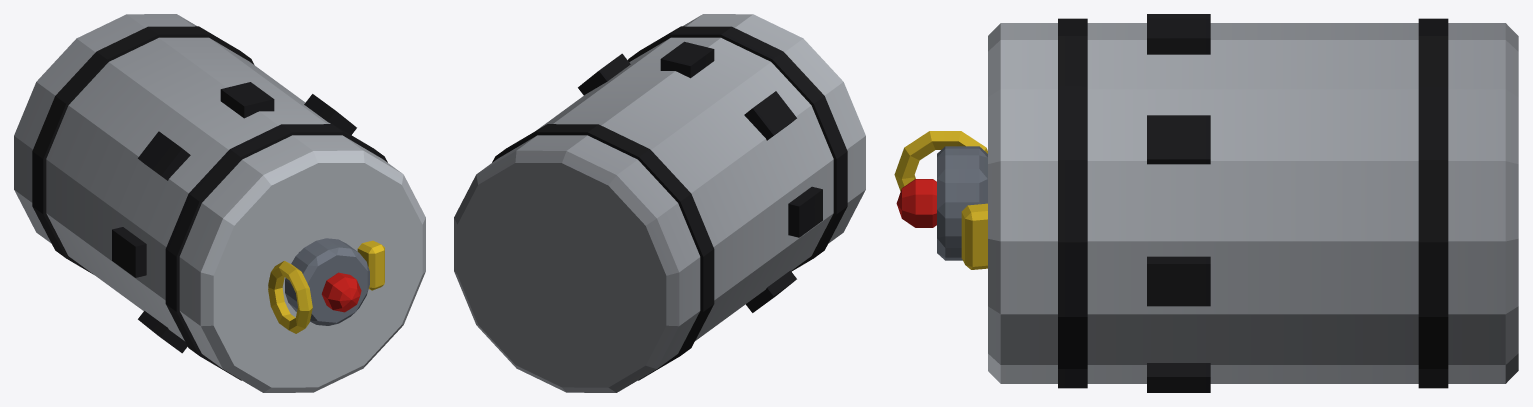
Rendered from smoke.glb.
3 renders of one model, left to right at view 1: azimuth 30°, elevation 25°; view 2: azimuth 150°, elevation 25°; view 3: azimuth 270°, elevation 25°, orthographic. The views are drawn at different scales.
Visible parts, largest first — view 1: smoke; view 2: smoke; view 3: smoke.
Boxes of the visible parts, box(x1,y1,x2,y2) form: smoke: box(14, 14, 425, 392); smoke: box(454, 14, 865, 392); smoke: box(894, 14, 1518, 392).
Bounding box in the file's own units: 0.182 × 0.182 × 0.294.
